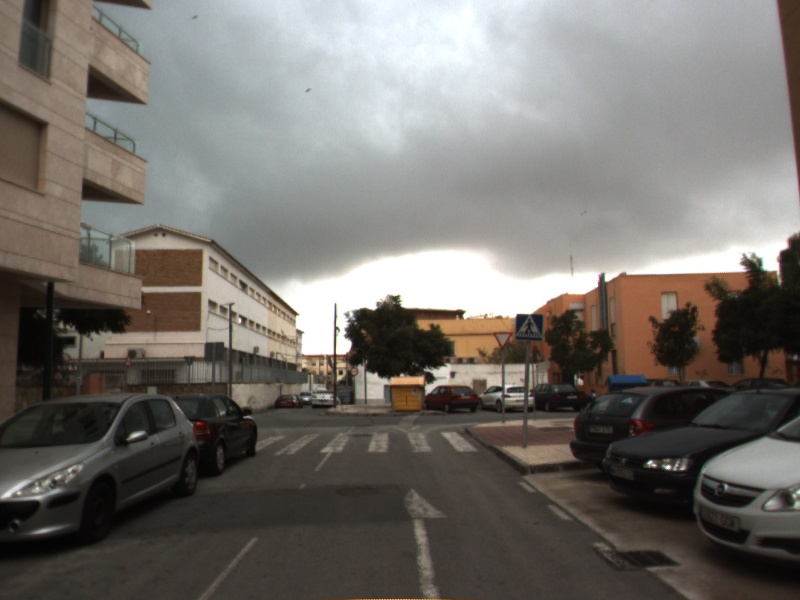STRAIGHT: (400, 484, 454, 600)
